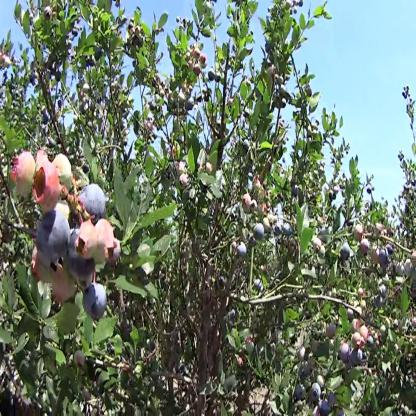intermediate: (34, 165, 59, 209), (11, 154, 36, 195), (97, 221, 118, 265), (79, 225, 98, 258), (253, 174, 264, 194), (242, 192, 252, 211), (353, 225, 364, 242), (353, 334, 363, 351), (191, 47, 202, 61), (201, 55, 210, 70), (362, 239, 369, 256), (353, 320, 361, 333), (411, 251, 416, 269)
mature: (37, 214, 71, 266), (79, 186, 111, 219), (83, 283, 110, 320), (319, 401, 334, 416), (379, 247, 389, 269), (254, 222, 266, 240), (237, 241, 249, 258), (294, 384, 307, 399), (42, 109, 53, 126), (312, 385, 322, 403), (353, 351, 364, 367), (342, 244, 351, 262), (187, 98, 197, 114), (29, 75, 41, 88), (341, 347, 352, 359), (133, 34, 140, 49), (292, 185, 300, 198), (55, 71, 61, 85), (328, 188, 335, 199)
young: (313, 238, 327, 258), (179, 175, 190, 190), (404, 260, 412, 278), (45, 7, 54, 21), (176, 162, 187, 173), (398, 262, 405, 275), (7, 57, 13, 71), (285, 1, 292, 12), (174, 15, 181, 25)
